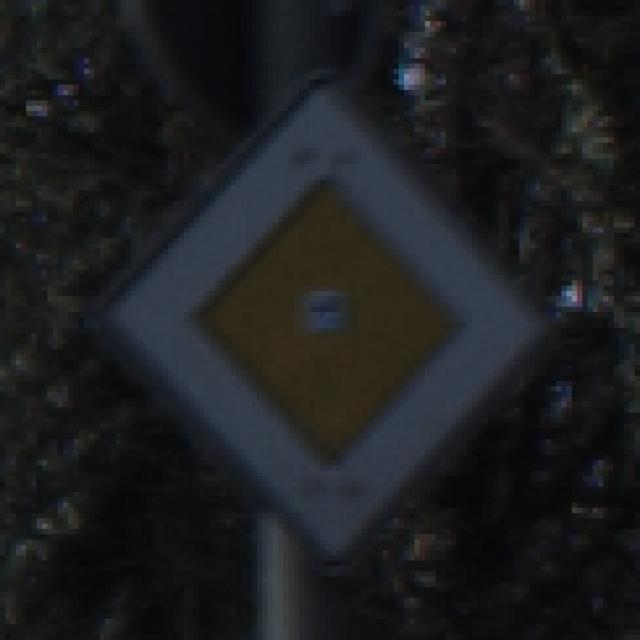Main Road: (59, 54, 589, 588)
